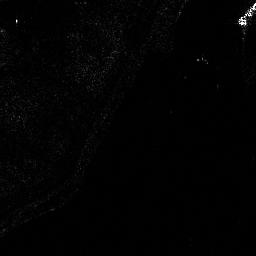ship: (238, 2, 256, 26)
